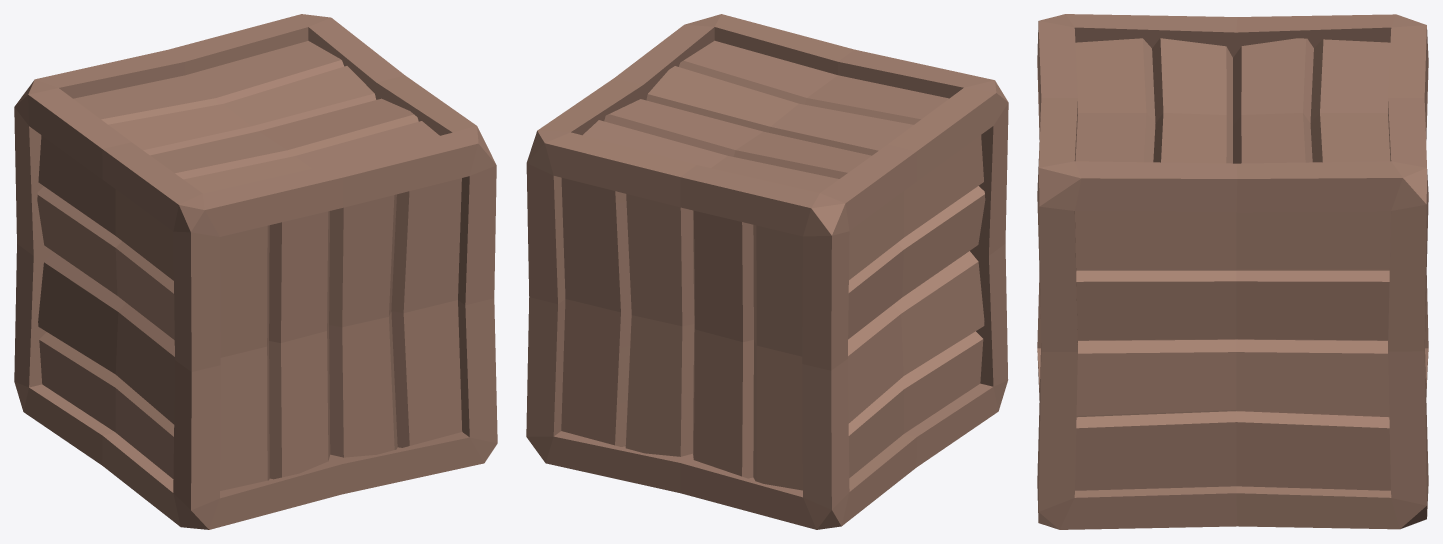
Rendered from Crate_01.fbx.
3 renders of one model, left to right at view 1: azimuth 30°, elevation 25°; view 2: azimuth 150°, elevation 25°; view 3: azimuth 270°, elevation 25°, orthographic. The views are drawn at different scales.
Parts seen in each view (by area): view 1: SM_Prop_Crate_01; view 2: SM_Prop_Crate_01; view 3: SM_Prop_Crate_01.
Boxes of the visible parts, bbox=[...] form: SM_Prop_Crate_01: bbox=[14, 14, 497, 529]; SM_Prop_Crate_01: bbox=[526, 14, 1008, 529]; SM_Prop_Crate_01: bbox=[1037, 14, 1428, 529].
Size of the model in its own units: 84.41 by 84.41 by 84.41.
